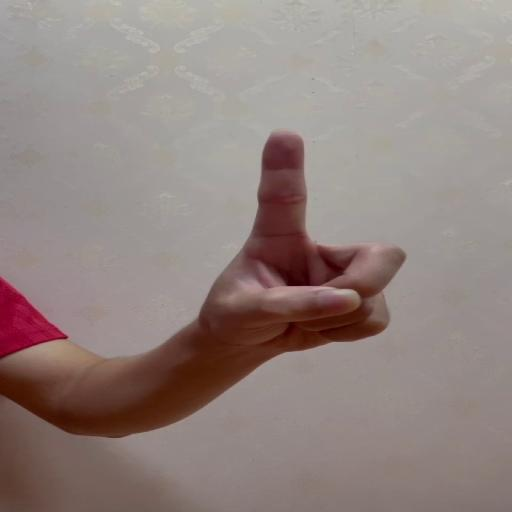point: (238, 127, 408, 355)
